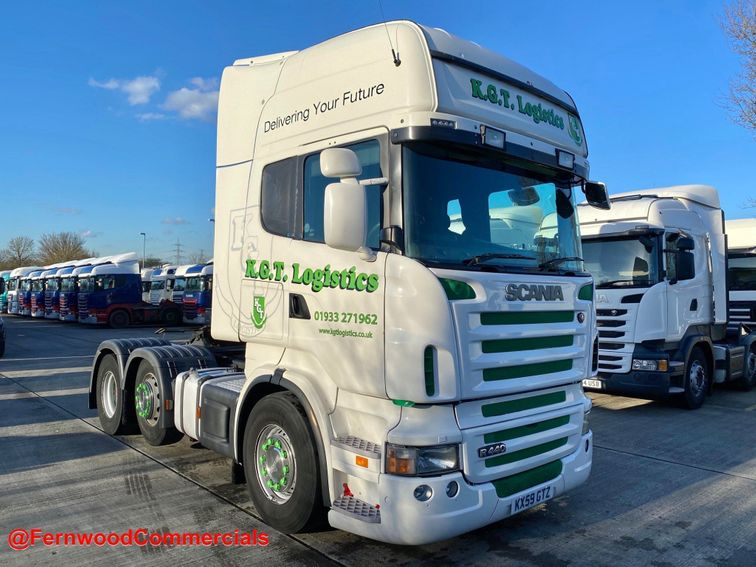Semi: (87, 18, 599, 544), (533, 183, 755, 408)
